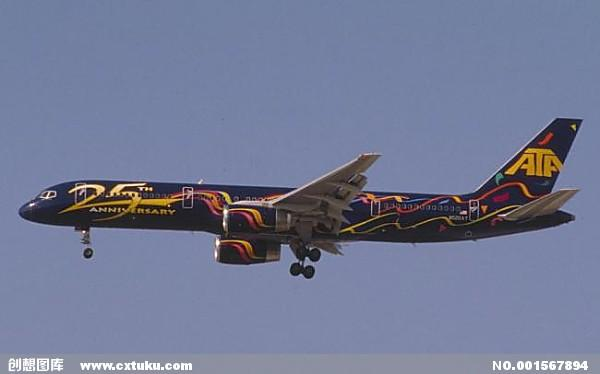airplane: (15, 116, 579, 277)
